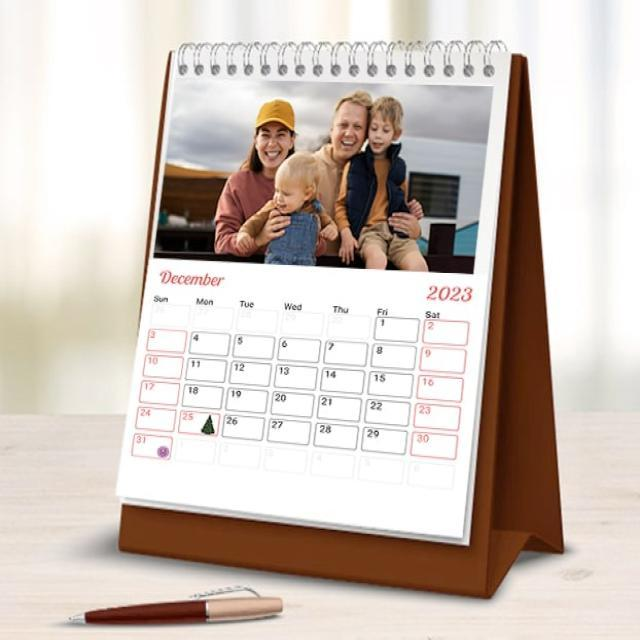calendar: (116, 40, 563, 595)
